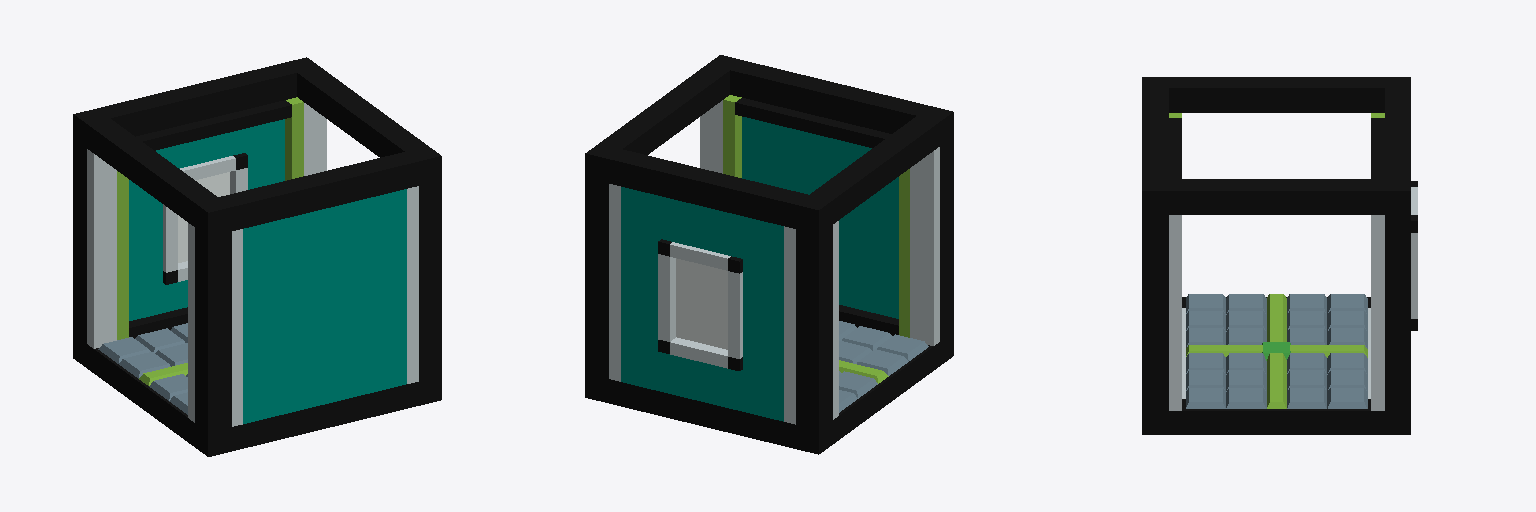
The model's file is ModularInterior2.obj.
The picture shows the model from 3 angles: view 1: azimuth 30°, elevation 25°; view 2: azimuth 150°, elevation 25°; view 3: azimuth 270°, elevation 25°; orthographic projection.
Visible parts, largest first — view 1: group[number redacted], group[number redacted], group[number redacted], group[number redacted]; view 2: group[number redacted], group[number redacted], group[number redacted], group[number redacted]; view 3: group[number redacted], group[number redacted], group[number redacted], group[number redacted], group[number redacted].
Boxes of the visible parts, box(x1,y1,x2,y2) form: group[number redacted]: box(73, 57, 441, 456); group[number redacted]: box(243, 189, 406, 423); group[number redacted]: box(129, 100, 291, 338); group[number redacted]: box(98, 337, 187, 414); group[number redacted]: box(585, 55, 953, 454); group[number redacted]: box(621, 187, 783, 421); group[number redacted]: box(735, 98, 898, 335); group[number redacted]: box(839, 334, 928, 412); group[number redacted]: box(1142, 77, 1410, 434); group[number redacted]: box(1186, 353, 1367, 408); group[number redacted]: box(1186, 294, 1367, 341); group[number redacted]: box(1290, 118, 1417, 357); group[number redacted]: box(1169, 118, 1262, 356).
Bounding box in the file's own units: 1 × 1 × 1.02.